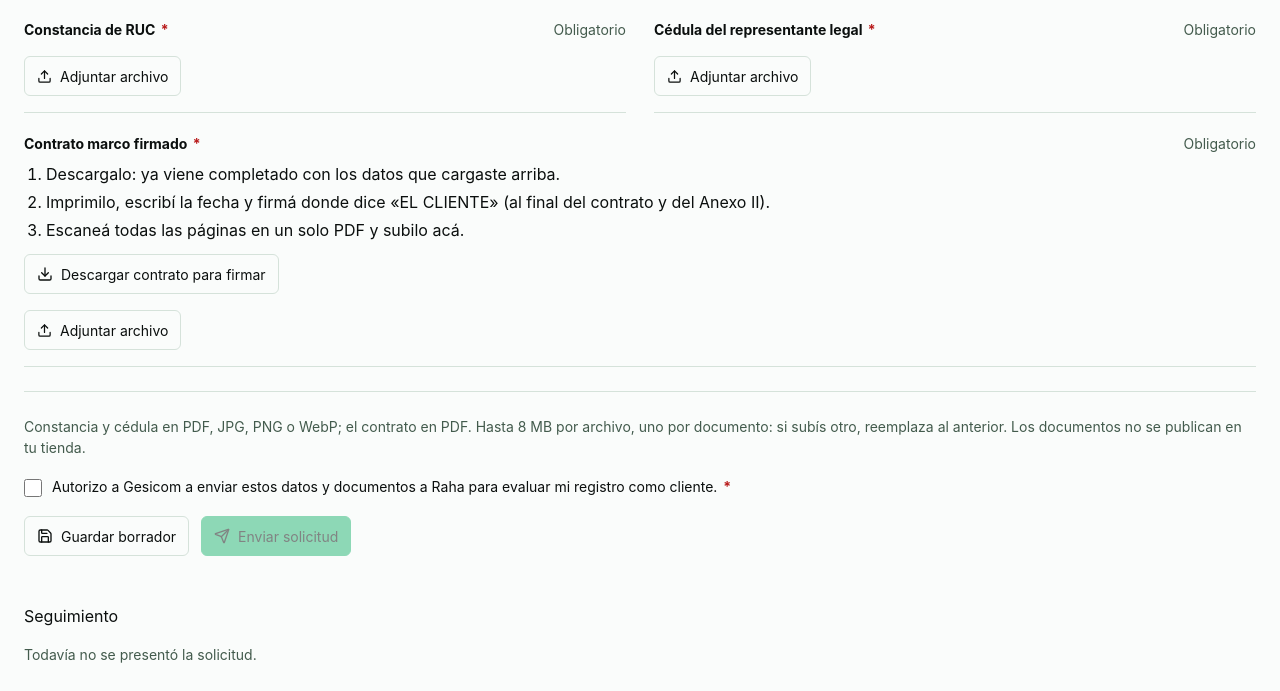
Test: Raha application › shows custom inline validation errors when submitting with empty or invalid fields
(page scrolled)
Click the checkbox.
click(33, 488)  # box [24,479,42,497]
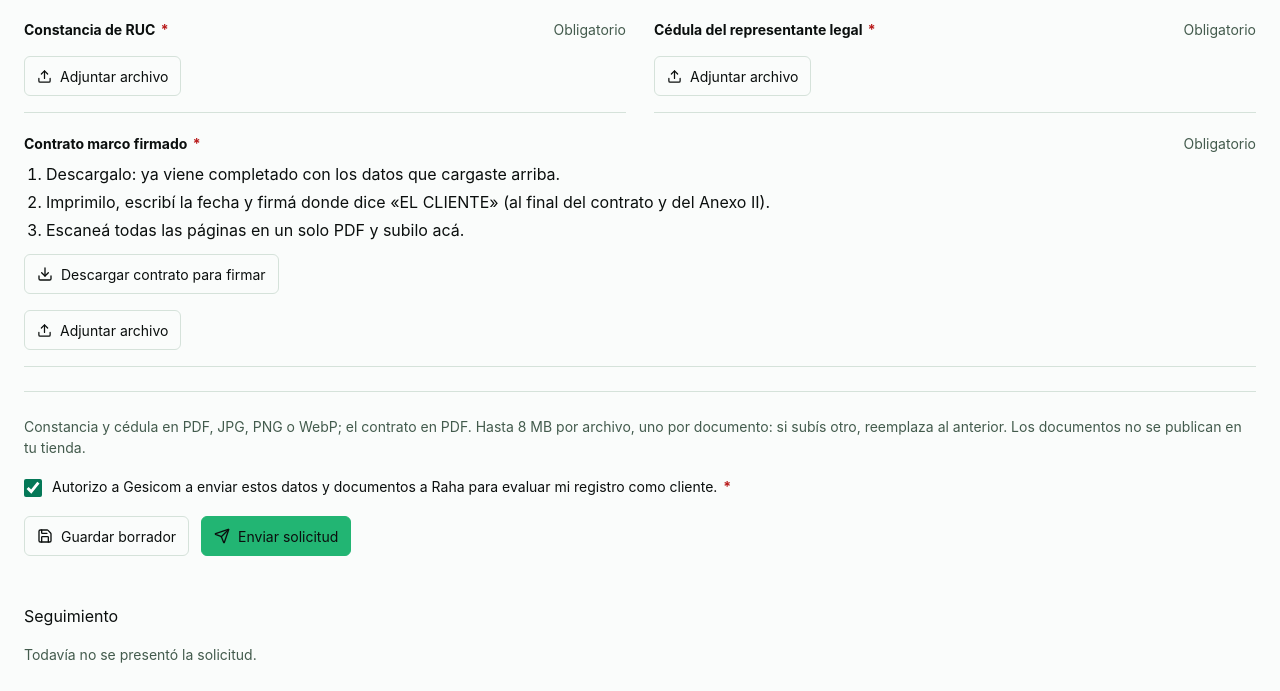
Click the button "Enviar solicitud".
click(276, 536)  # box [201,516,351,556]
(page scrolled)
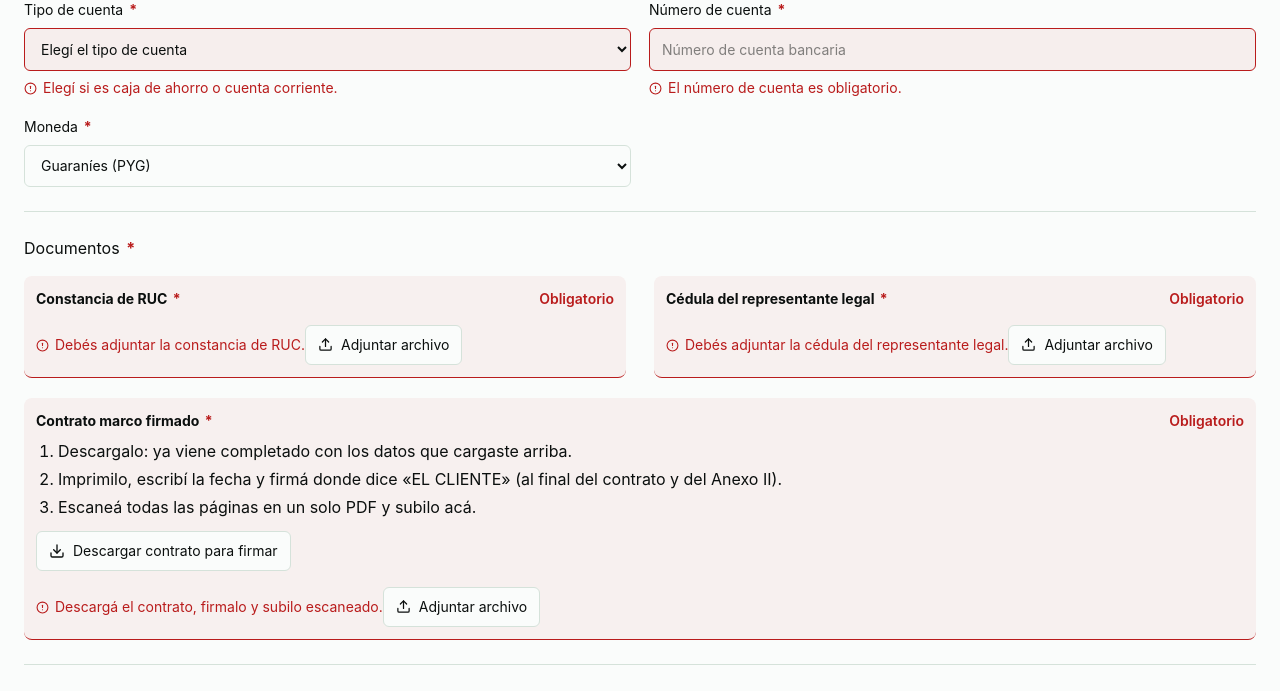
Expected: the text "Debés adjuntar la constancia de RUC." is shown, [36,336,305,355]
Expected: the text "Debés adjuntar la cédula del representante legal." is shown, [666,336,1008,355]
